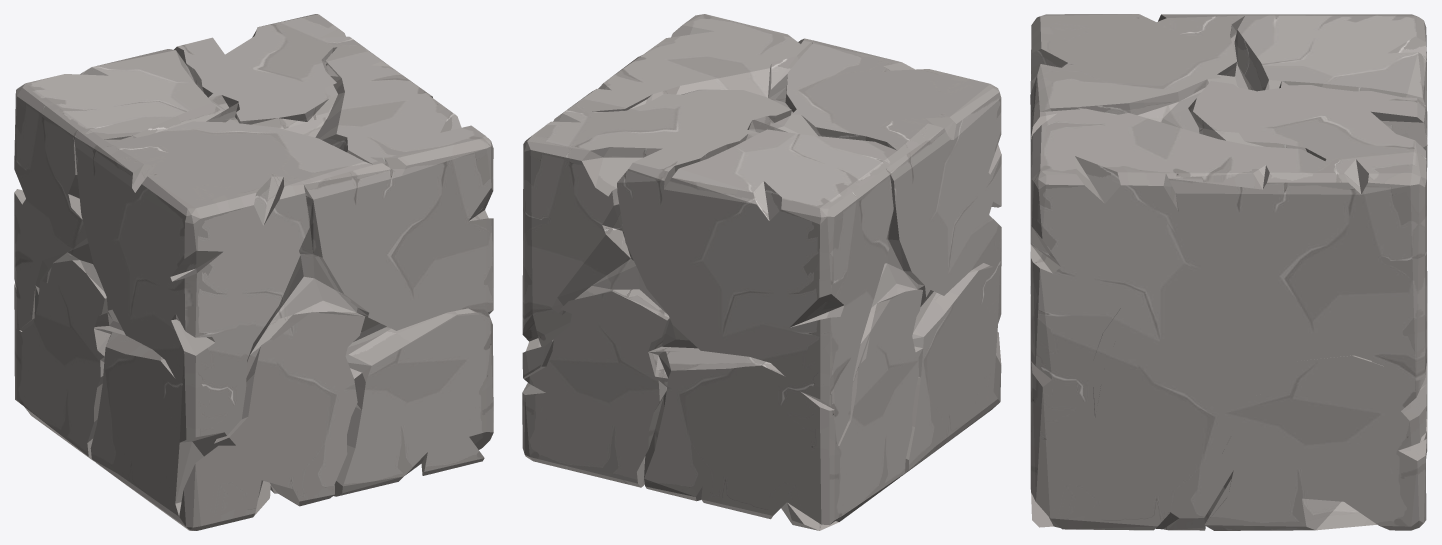
File: box damaged2.fbx
The picture shows the model from 3 angles, left to right: view 1: azimuth 30°, elevation 25°; view 2: azimuth 150°, elevation 25°; view 3: azimuth 270°, elevation 25°; orthographic projection. The views are drawn at different scales.
Parts seen in each view (by area): view 1: Cube.025; view 2: Cube.025; view 3: Cube.025.
Boxes of the visible parts, x1,y1,x2,y2 form: Cube.025: (14, 14, 493, 530); Cube.025: (522, 14, 1001, 530); Cube.025: (1030, 14, 1427, 530).
Bounding box in the file's own units: 194 × 194 × 194.
Materials: 1 (1 with a texture image).
